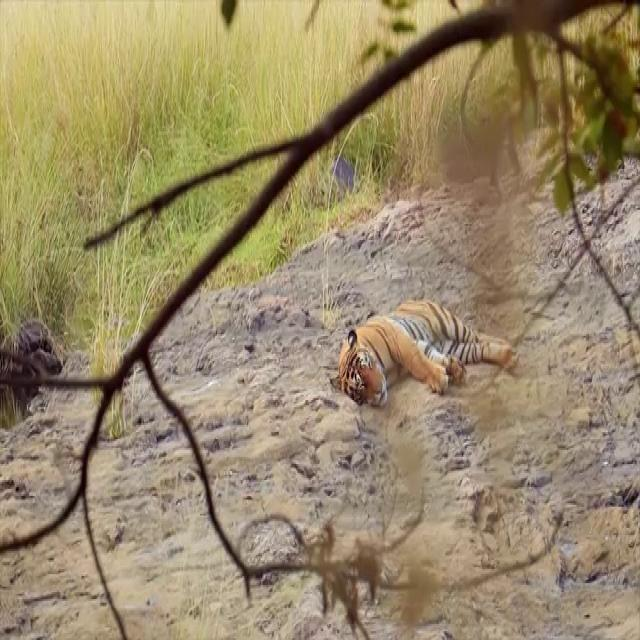tiger: (330, 298, 520, 408)
